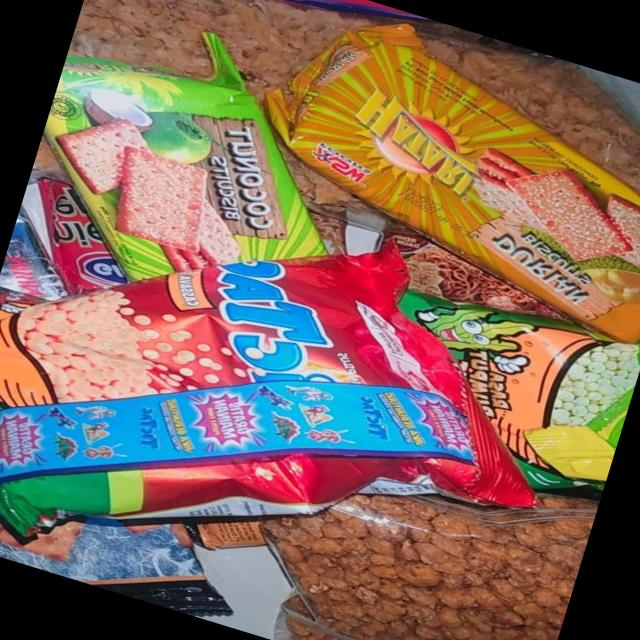KemasanPlastik: (0, 138, 581, 640), (0, 0, 392, 405), (233, 2, 640, 364)
